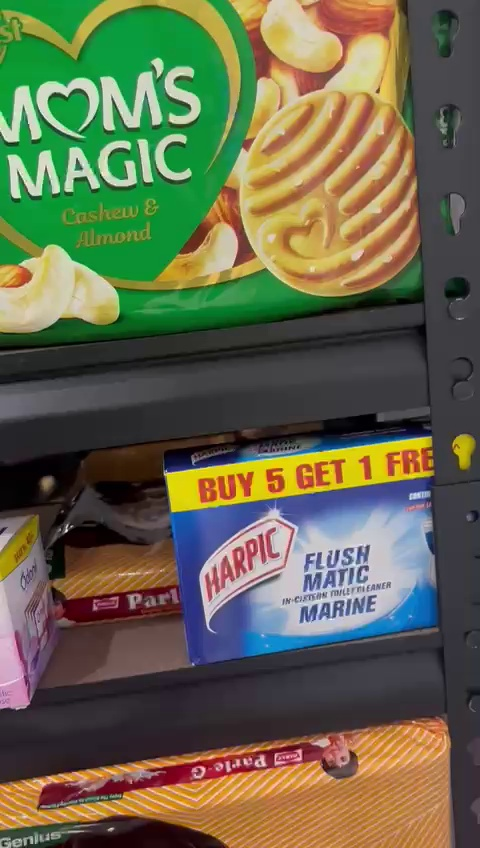Harpic: (185, 439, 437, 664)
